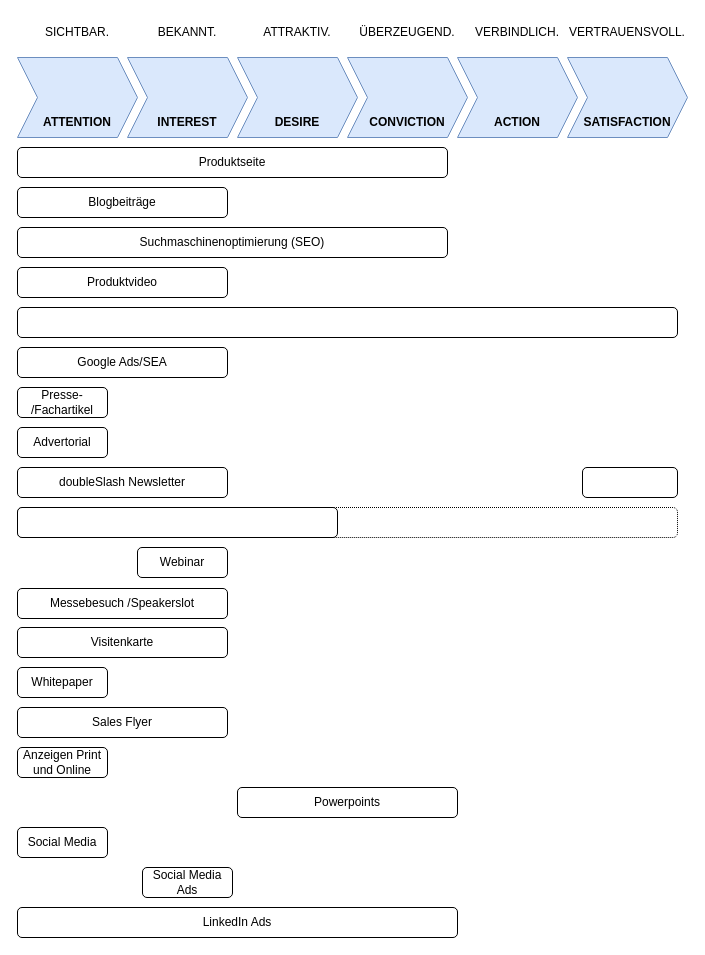
Image size: 705x955. Some labels were removed from this diagram. Here are the shapes that lost their labels. From the top down, the centre of each, then its label:
At (347,322): "Produktlogo".
At (177,522): "Mailings Hubspot".
